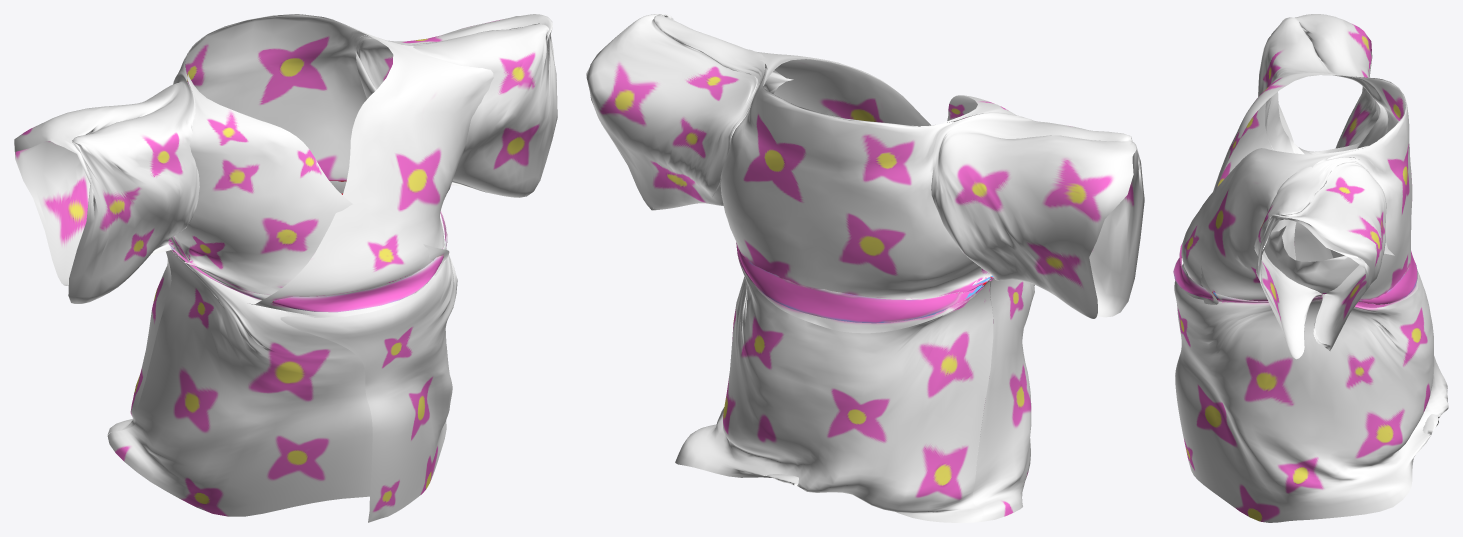
File: Kimono-Pink-Flowers.glb
3 renders of one model, left to right at view 1: azimuth 30°, elevation 25°; view 2: azimuth 150°, elevation 25°; view 3: azimuth 270°, elevation 25°, orthographic. The views are drawn at different scales.
Visible parts, largest first — view 1: Kimono-Pink-Flowers; view 2: Kimono-Pink-Flowers; view 3: Kimono-Pink-Flowers.
Boxes of the visible parts, x1,y1,x2,y2 form: Kimono-Pink-Flowers: (14,14,557,522); Kimono-Pink-Flowers: (586,14,1144,522); Kimono-Pink-Flowers: (1173,14,1448,522).
Bounding box in the file's own units: 0.6682 × 0.5166 × 0.3458.
Materials: 2 (2 with a texture image).
